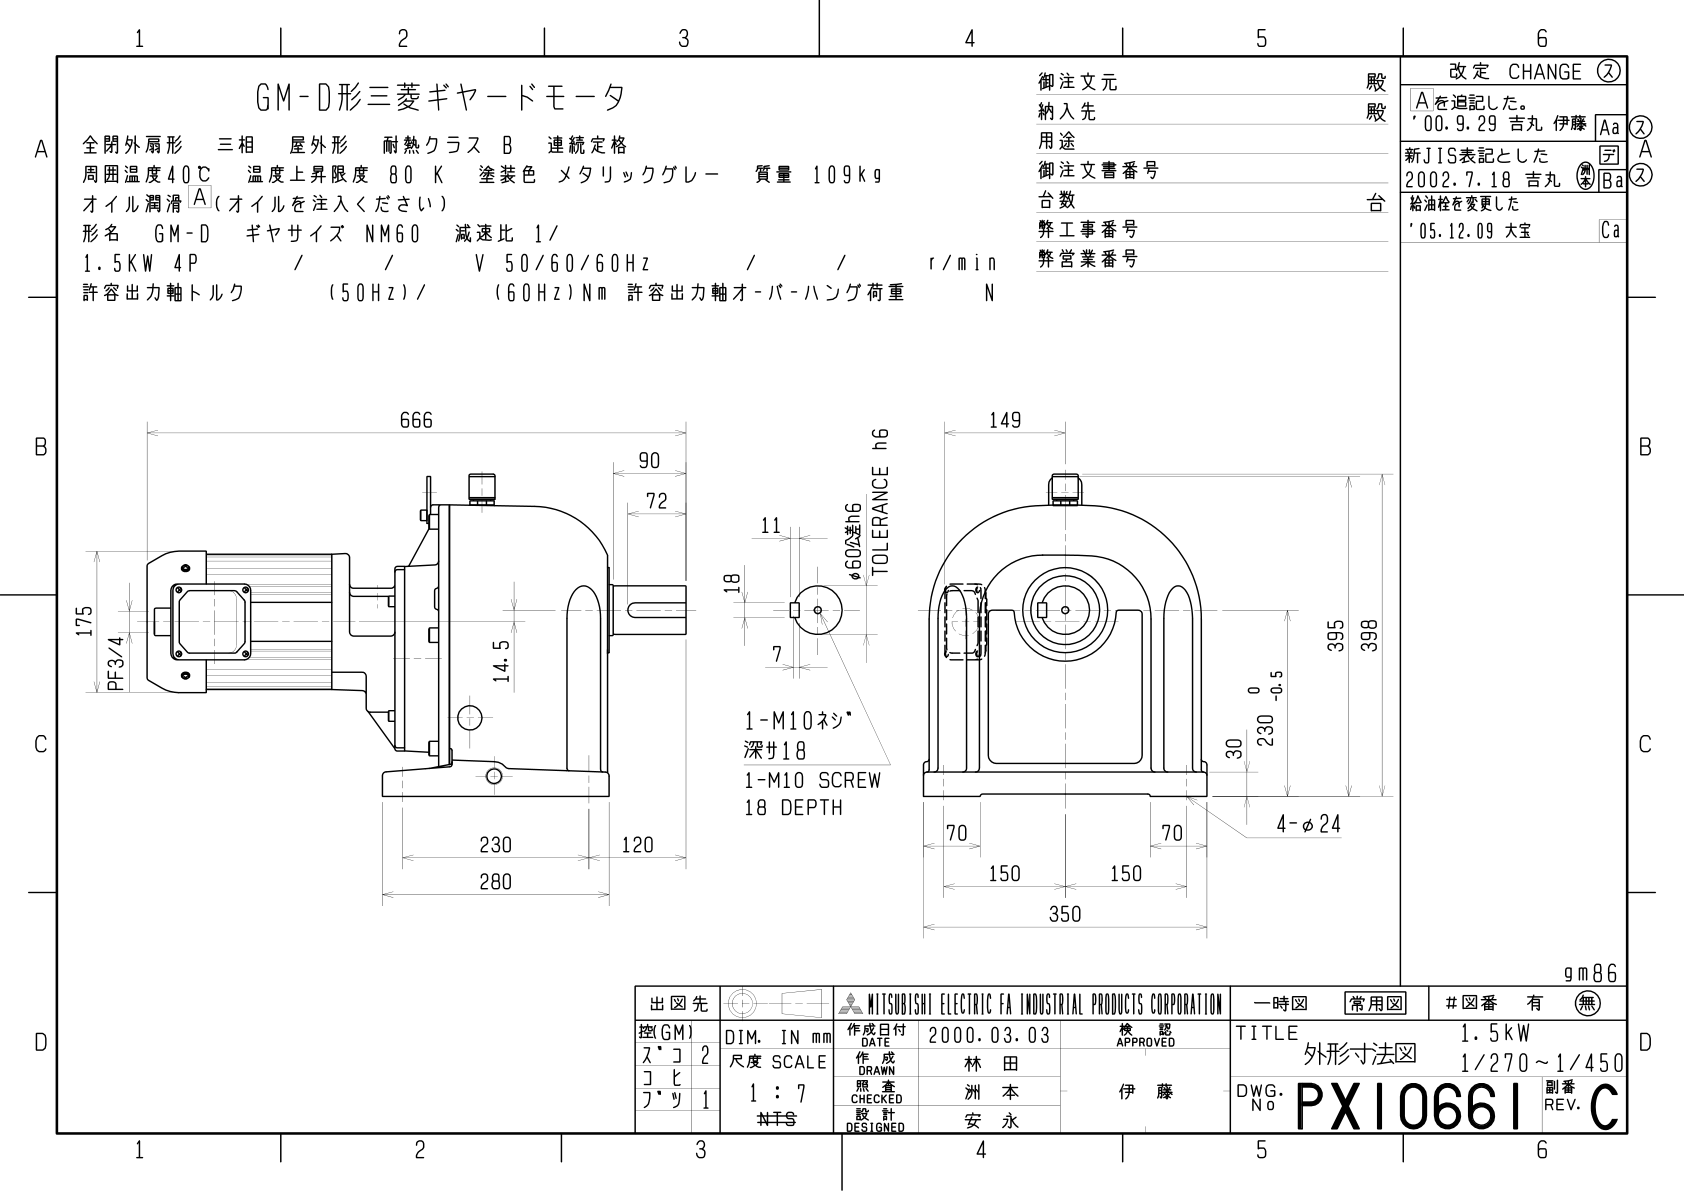GM_D_屋外＿三相_脚: (1, 1, 1674, 1178)
